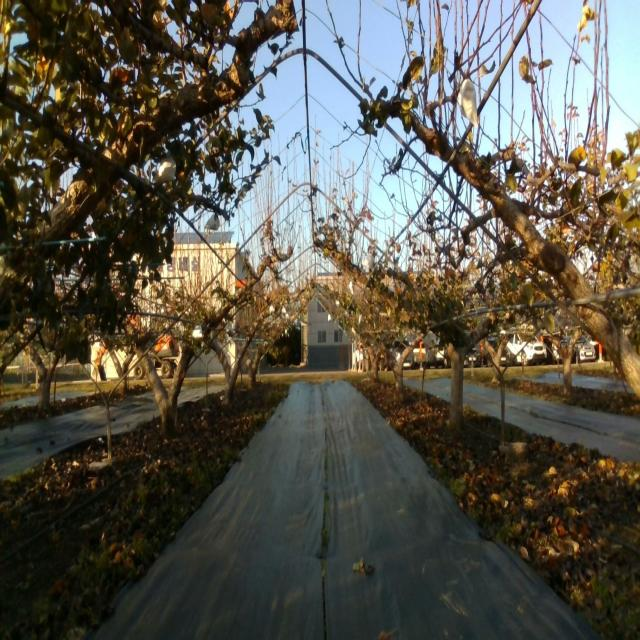pearbags: (457, 79, 479, 126), (152, 150, 176, 184), (205, 213, 220, 231)
